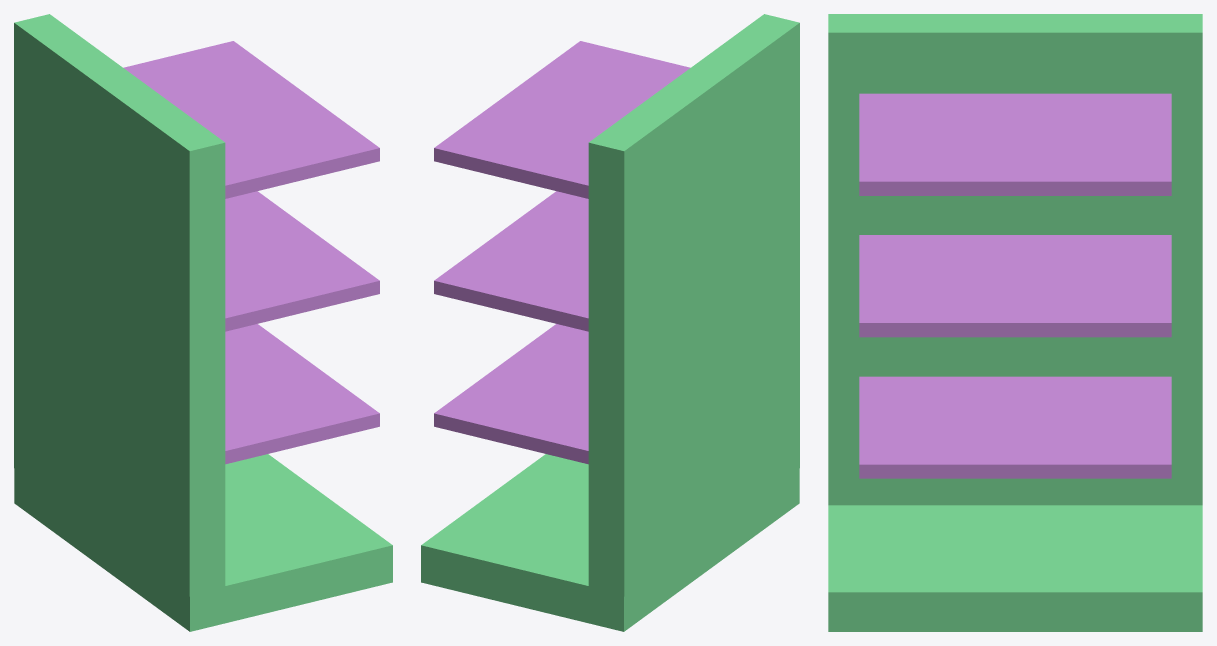
Rendered from SupplyPark.fbx.
3 views of the same model, side by side, from view 1: azimuth 30°, elevation 25°; view 2: azimuth 150°, elevation 25°; view 3: azimuth 270°, elevation 25° (orthographic). The views are drawn at different scales.
Visible parts, largest first — view 1: Cube.004, Cube.003, Cube.002, Cube, Cube.001; view 2: Cube.004, Cube.003, Cube.002, Cube, Cube.001; view 3: Cube.004, Cube.003, Cube, Cube.001, Cube.002.
Part boxes in pixels (<box>): Cube.004: <box>14,14,225,596</box>; Cube.003: <box>14,454,392,631</box>; Cube.002: <box>123,41,379,198</box>; Cube: <box>225,324,379,464</box>; Cube.001: <box>225,191,379,331</box>; Cube.004: <box>588,14,799,596</box>; Cube.003: <box>421,454,799,631</box>; Cube.002: <box>434,41,690,198</box>; Cube: <box>434,324,588,464</box>; Cube.001: <box>434,191,588,331</box>; Cube.004: <box>828,14,1202,505</box>; Cube.003: <box>828,505,1202,631</box>; Cube: <box>859,376,1171,478</box>; Cube.001: <box>859,235,1171,337</box>; Cube.002: <box>859,93,1171,195</box>.
Bounding box in the file's own units: 80.76 × 181 × 120.
